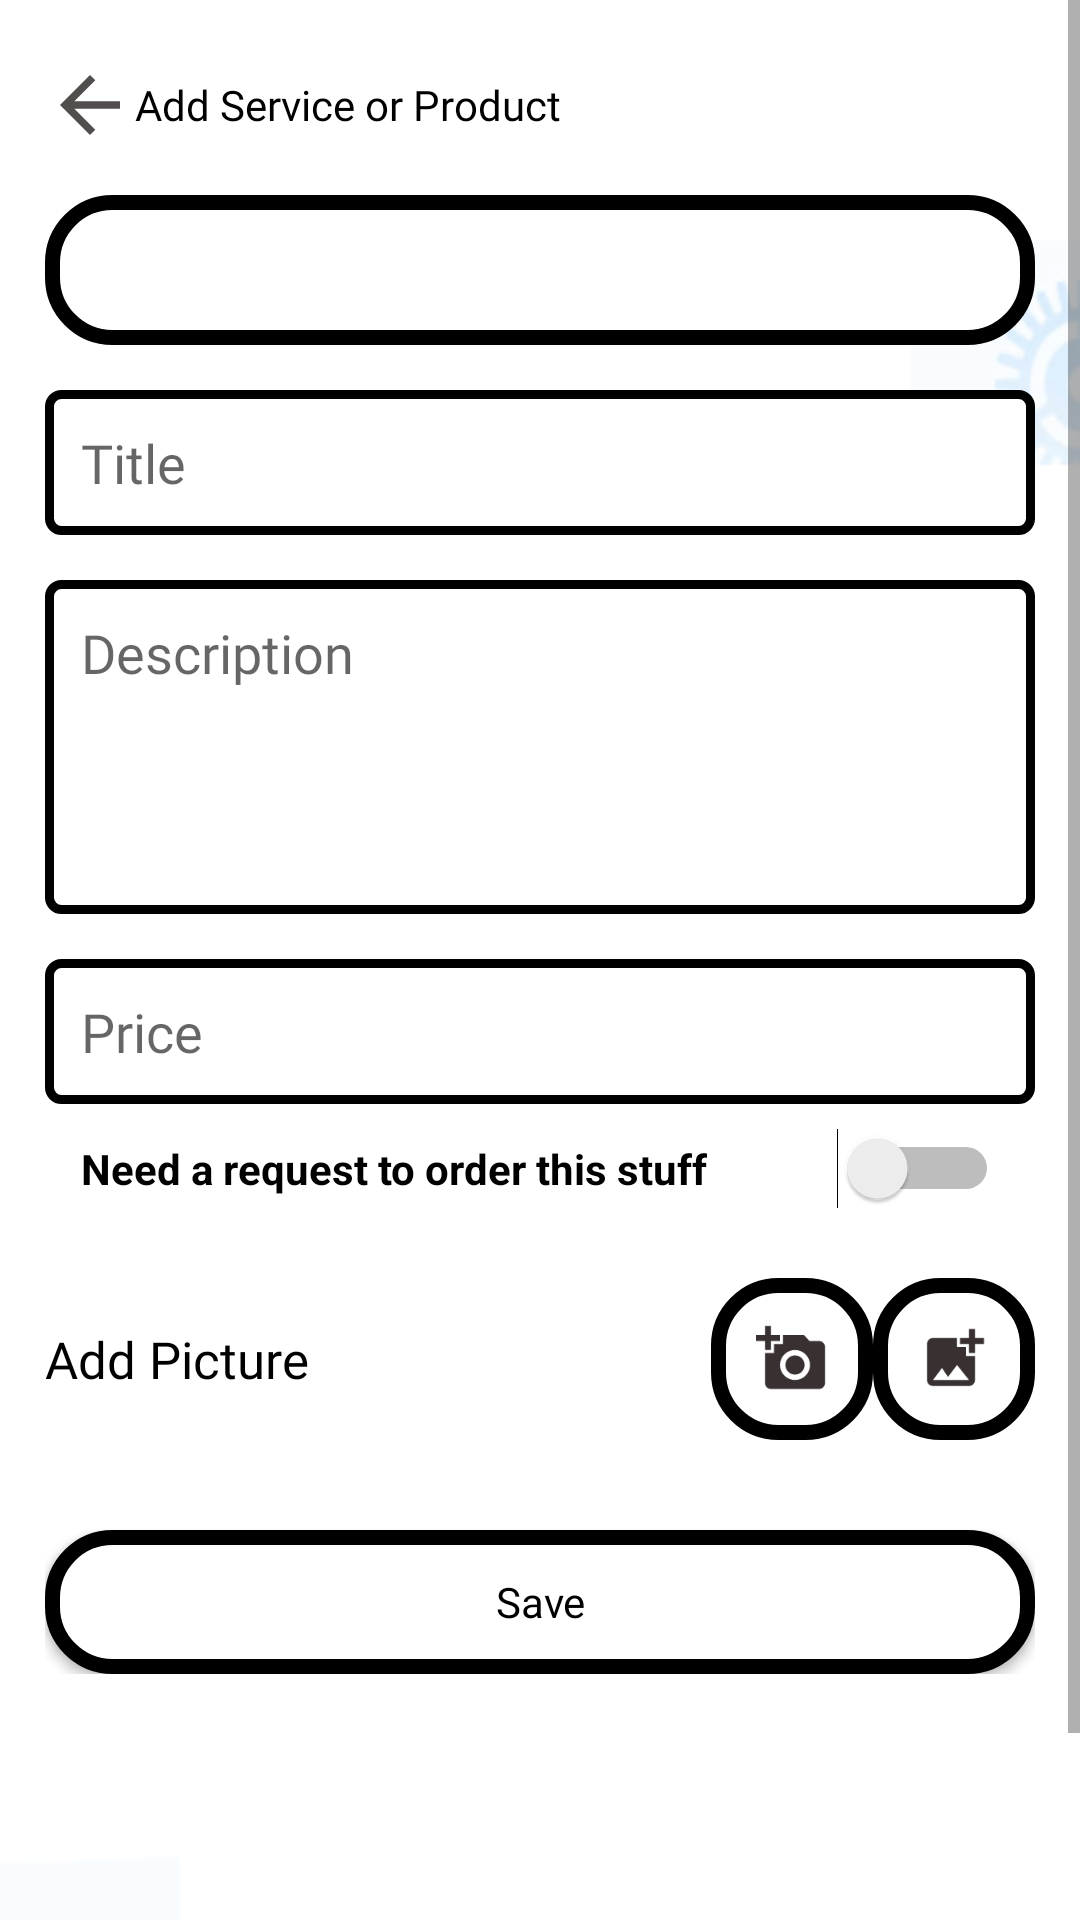

Point at icon controls on the screen. Image size 1080x1920, points as (x,y).
add photo alternate: (954,1359)
arrow back: (90,105)
